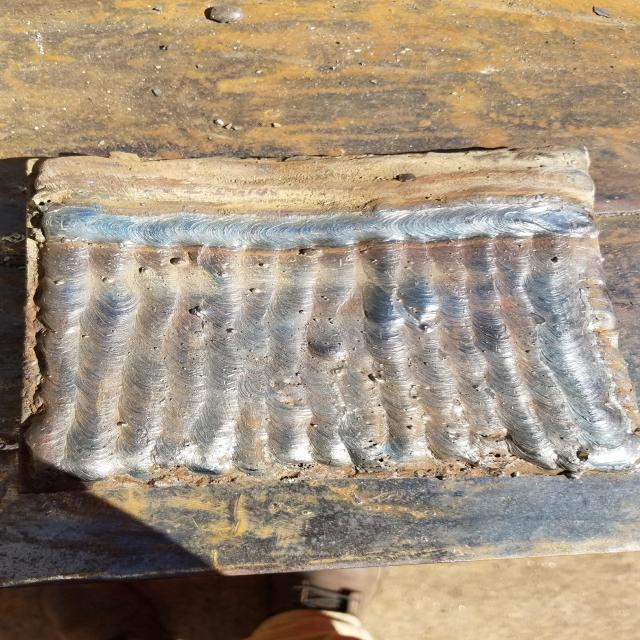Bad Weld: (42, 248, 628, 473)
Good Weld: (42, 205, 578, 244)
